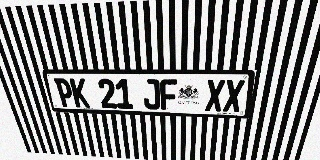1: (114, 79, 133, 109)
2: (97, 79, 117, 108)
F: (160, 79, 177, 110)
J: (142, 79, 160, 110)
K: (69, 78, 90, 108)
P: (54, 78, 75, 107)
X: (223, 80, 245, 112), (205, 79, 225, 111)
